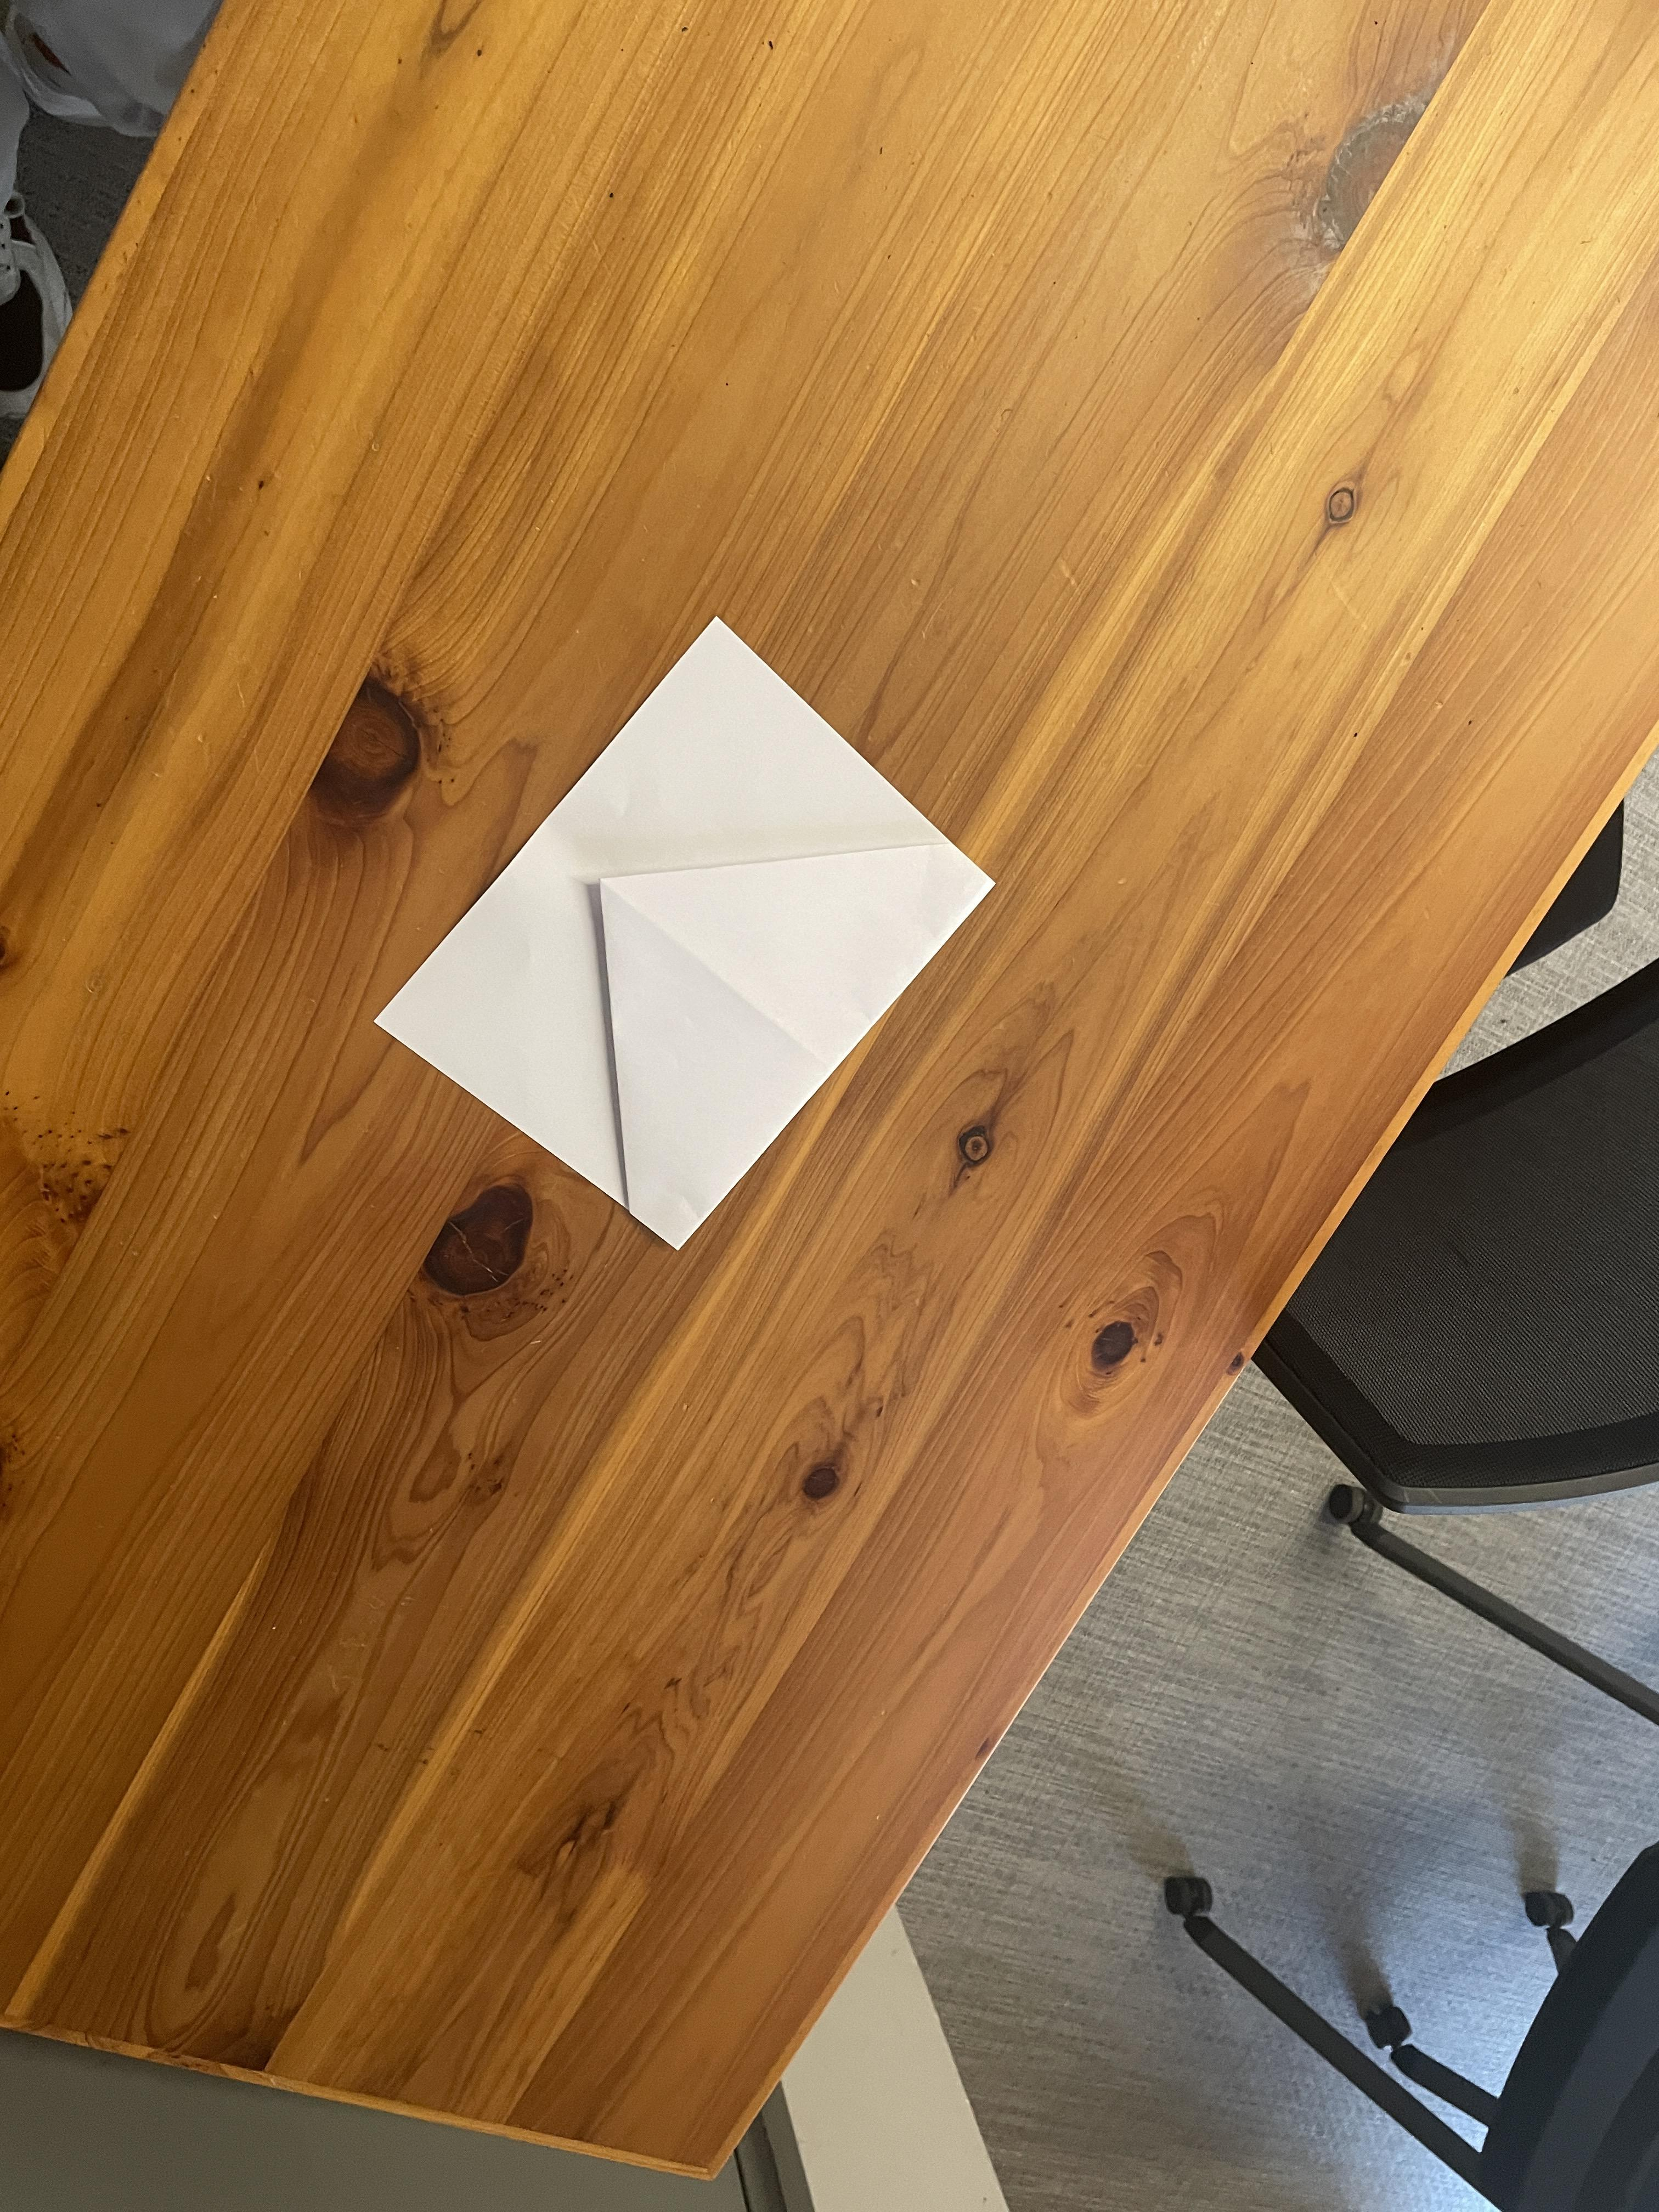shape_1: (301, 512, 1157, 1362)
